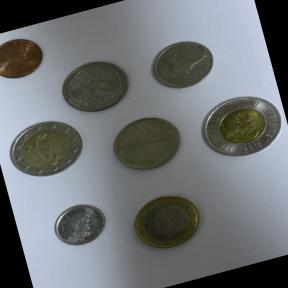coin: (186, 78, 288, 173), (117, 180, 218, 264), (99, 103, 198, 187), (0, 110, 93, 190), (54, 49, 143, 123), (43, 192, 117, 257), (0, 22, 61, 92)
